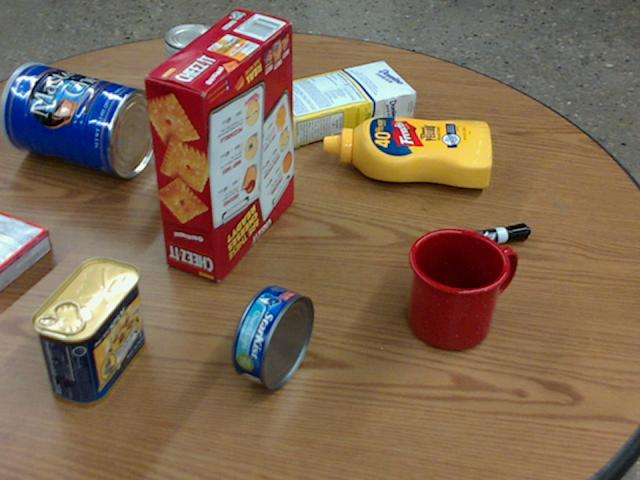cracker_box: (143, 11, 292, 282)
gelatin_box: (0, 211, 52, 292)
large_marker: (421, 223, 530, 254)
master_chef_can: (0, 63, 156, 177)
mug: (408, 227, 514, 350)
mustard_bottle: (322, 118, 491, 186)
potted_meat_can: (32, 257, 143, 406)
sugar_box: (261, 59, 417, 147)
tomato_soup_can: (162, 23, 221, 122)
tuna_fish_can: (231, 285, 315, 389)
